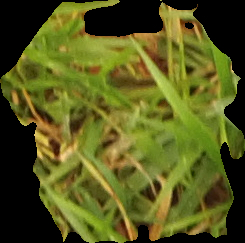grass: (1, 1, 243, 241)
